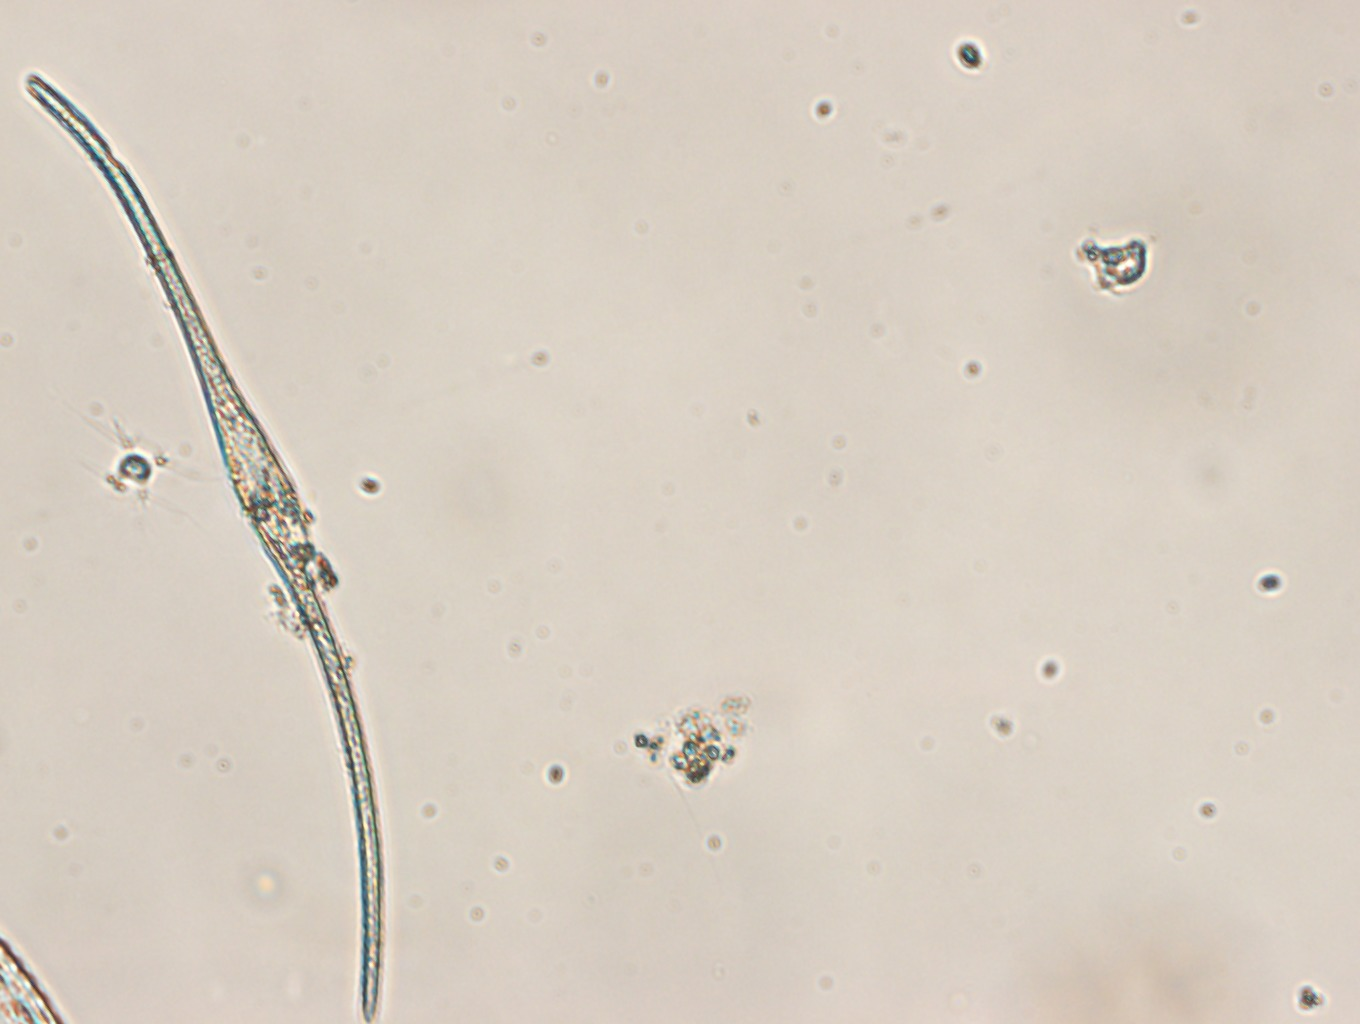ceratium fusus: (22, 72, 382, 1024)
